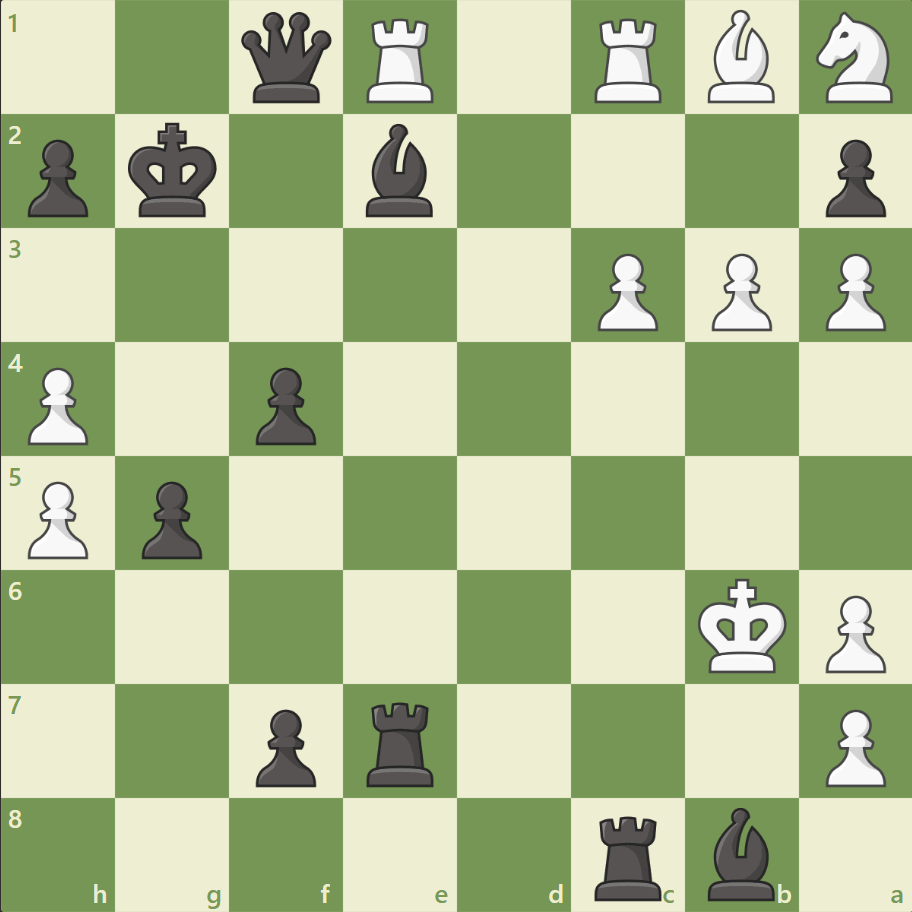B: (698, 6, 782, 109)
K: (692, 571, 792, 679)
N: (806, 7, 903, 110)
P: (20, 473, 95, 564), (20, 359, 95, 450), (701, 246, 776, 337), (815, 700, 889, 791), (815, 586, 889, 677), (815, 246, 889, 337), (588, 246, 662, 337)
R: (587, 12, 670, 109), (360, 12, 442, 109)
b: (698, 801, 782, 904), (358, 120, 442, 222)
k: (124, 117, 224, 225)
p: (247, 700, 322, 791), (133, 473, 208, 564), (247, 359, 322, 450), (20, 132, 95, 223), (815, 132, 889, 223)
q: (237, 9, 336, 108)
r: (587, 806, 670, 904), (360, 693, 442, 790)
